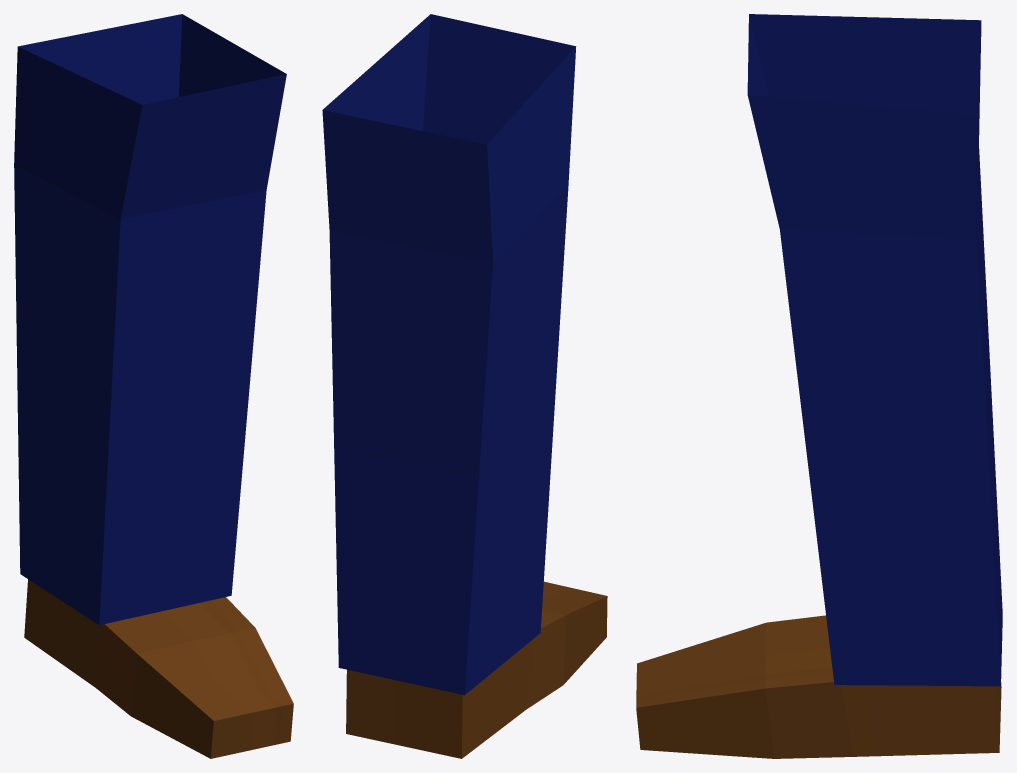
File: pie1.obj
3 views of the same model, side by side, from view 1: azimuth 30°, elevation 25°; view 2: azimuth 150°, elevation 25°; view 3: azimuth 270°, elevation 25° (orthographic). The views are drawn at different scales.
Visible parts, largest first — view 1: Cube.011; view 2: Cube.011; view 3: Cube.011.
Boxes of the visible parts, box(x1,y1,x2,y2) form: Cube.011: box(14, 14, 293, 758); Cube.011: box(322, 14, 607, 758); Cube.011: box(636, 14, 1002, 758).
Size of the model in its own units: 0.2697 by 0.9572 by 0.4656.
Materials: 2 (2 with a texture image).
